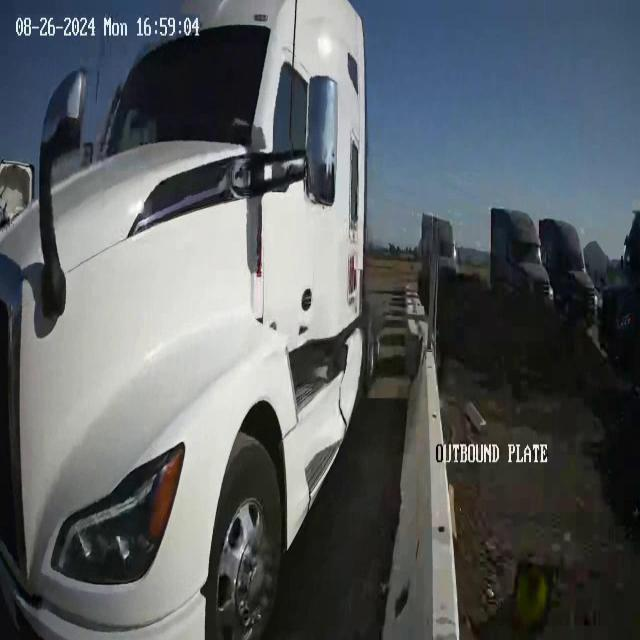TRUCK_OUT: (1, 1, 369, 638)
